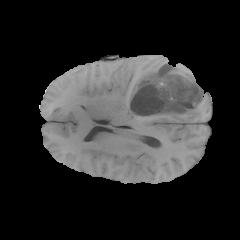glioma: (129, 62, 203, 116)
